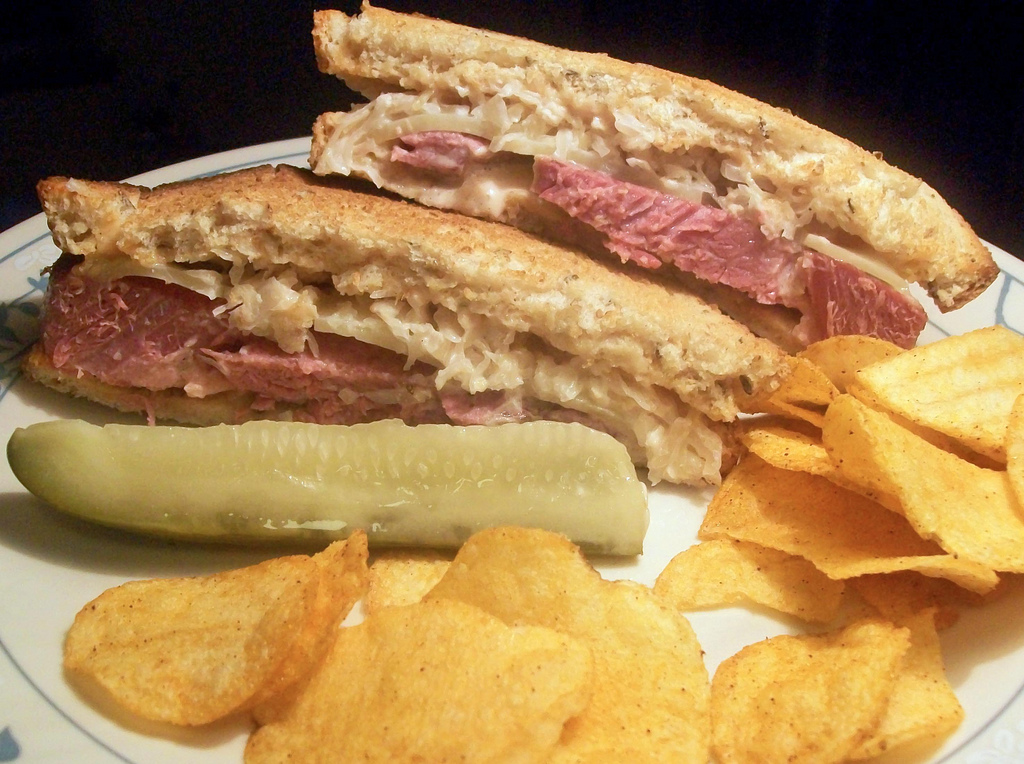slice of bread: (334, 12, 937, 315), (73, 187, 781, 415)
